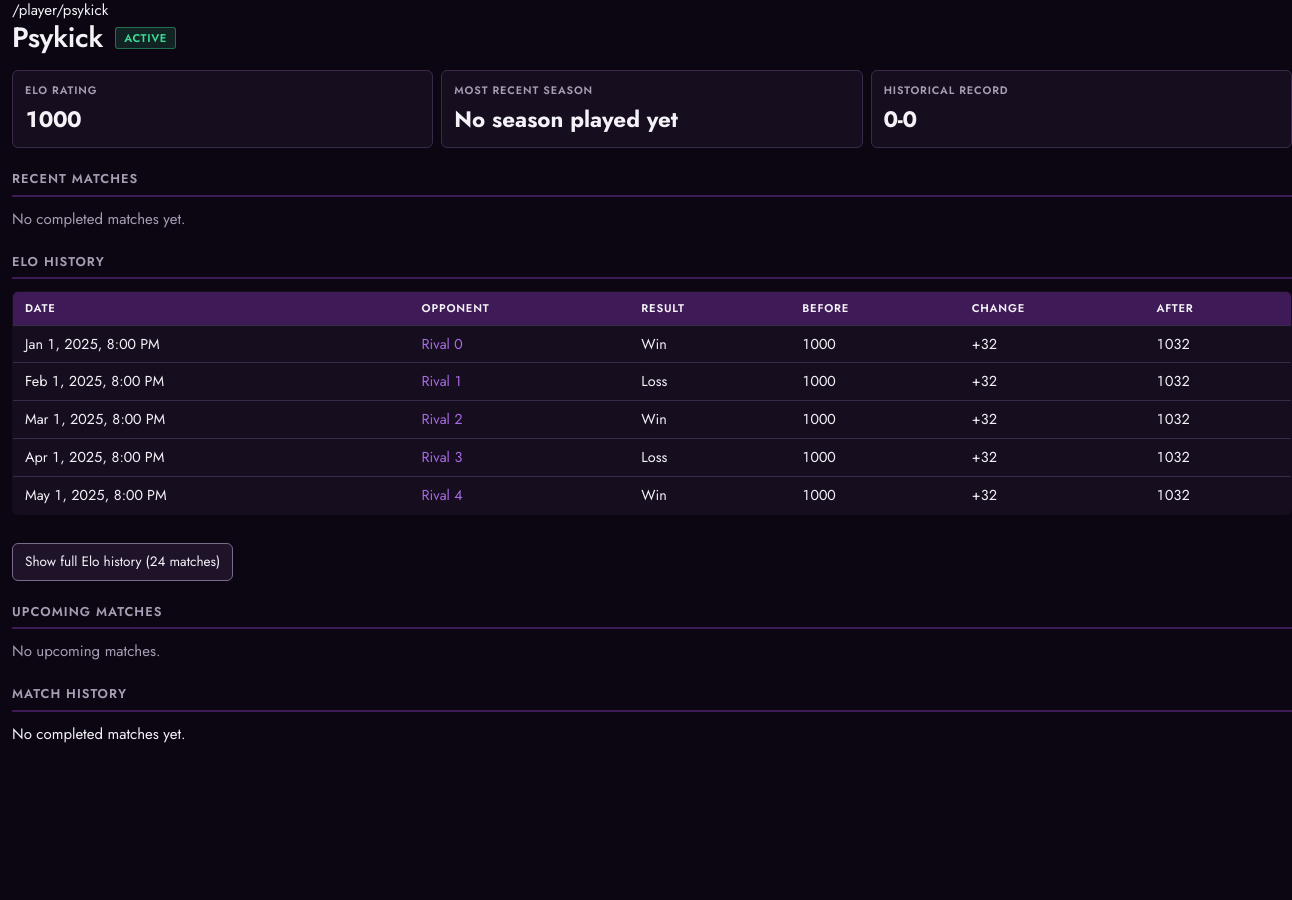
PlayerDetailPage › Elo history › expands to the whole history and back
What coordinates should you click on to do the following:
click the button "Show full Elo history (24 matches)"
I would click on:
 (123, 562)
Its box is [12,543,233,581].
(page scrolled)
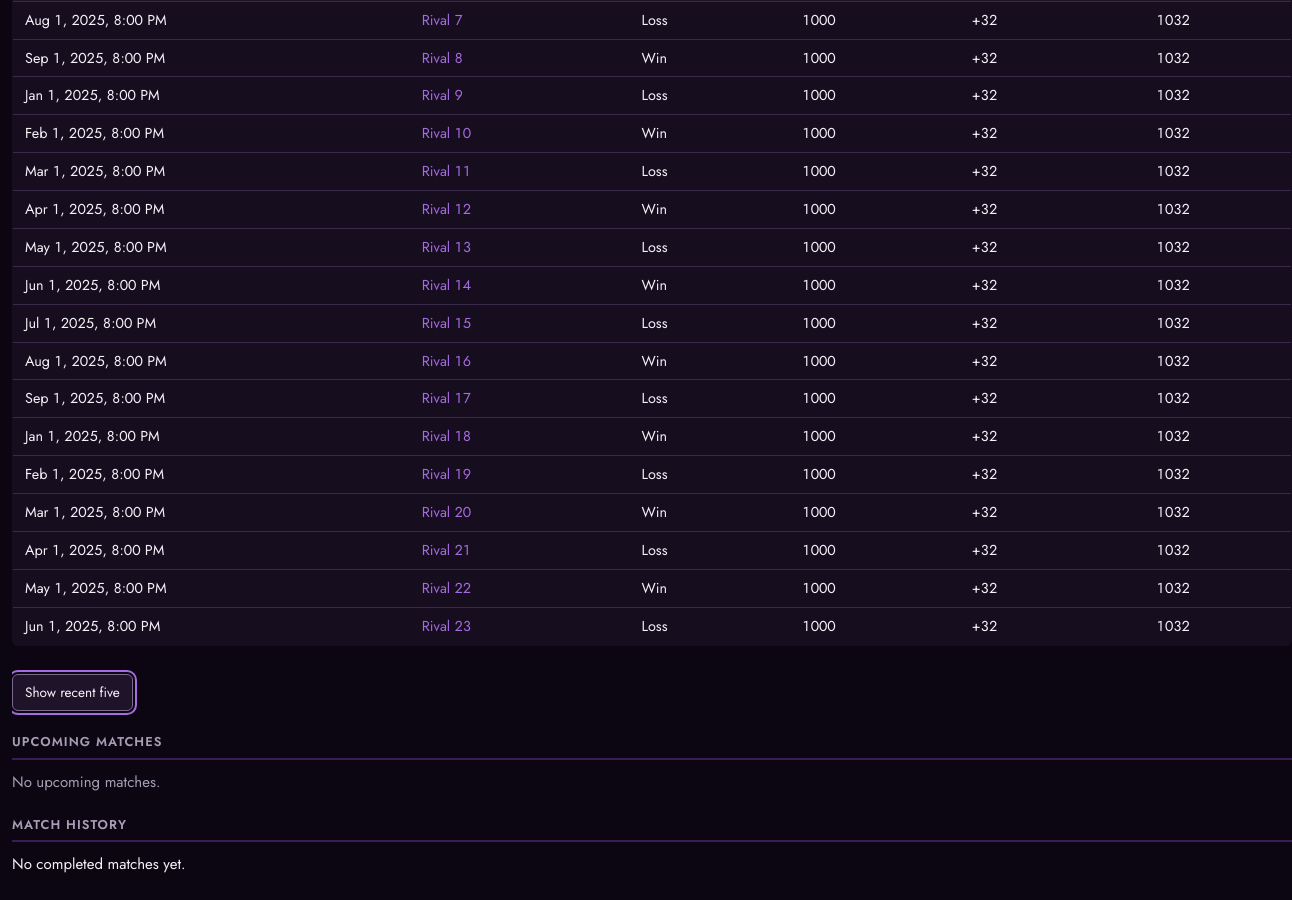
Check: the button "Show recent five" is expanded
What coordinates should you click on to do the following:
click the button "Show recent five"
I would click on:
 (72, 692)
Its box is [12,674,133,711].
(page scrolled)
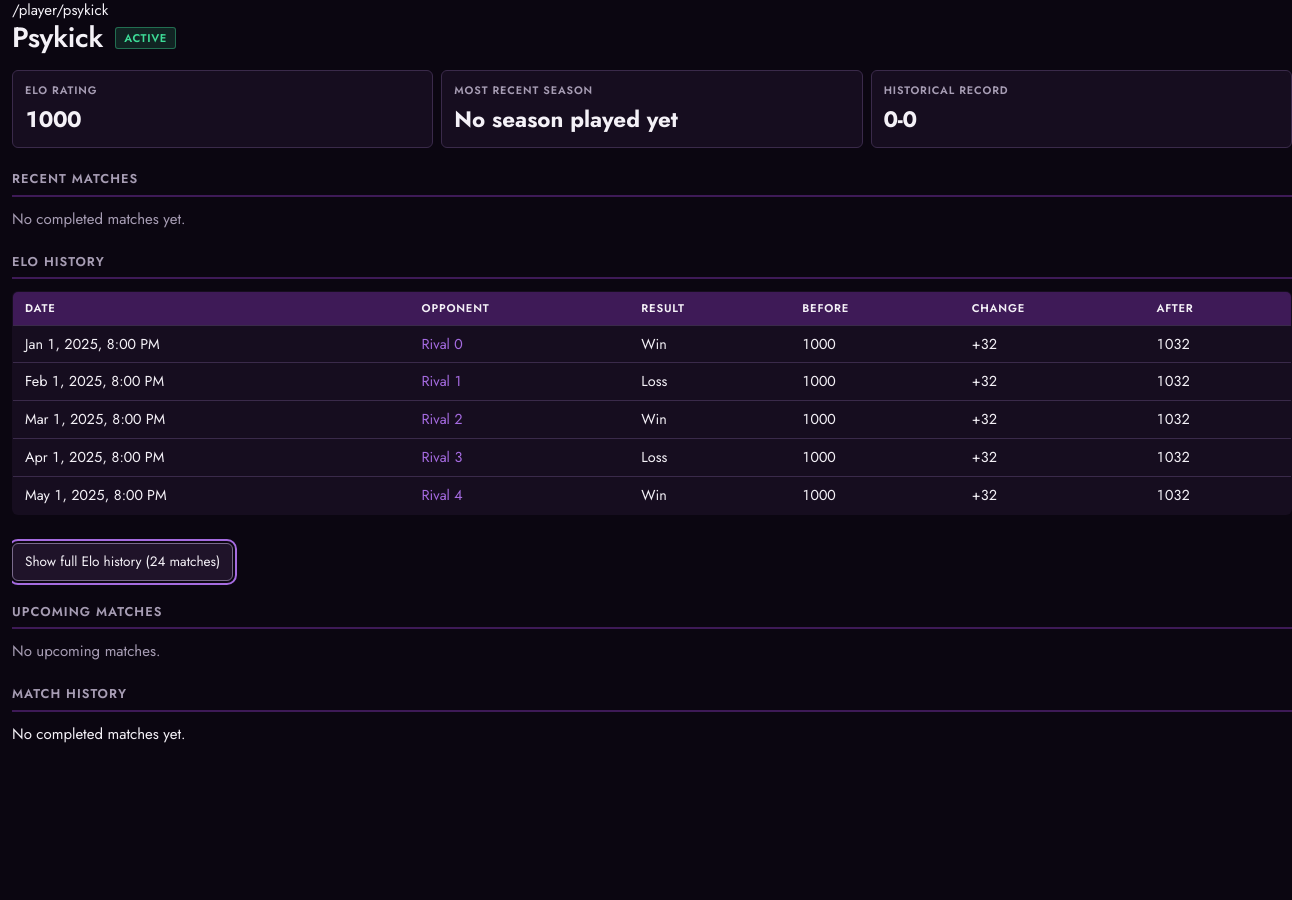
Check: the number of rows is 6, box [12,292,1291,325]; [12,325,1291,363]; [12,363,1291,401]; [12,401,1291,439]; [12,439,1291,477]; [12,477,1291,514]
